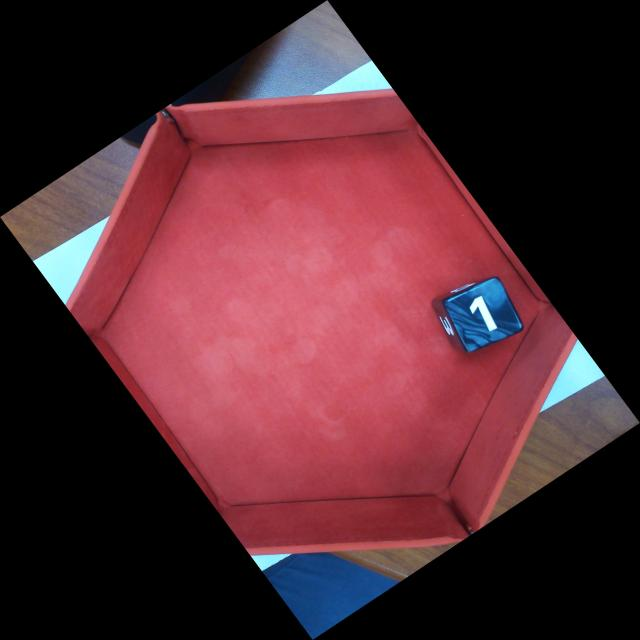dice: (445, 279, 522, 352)
